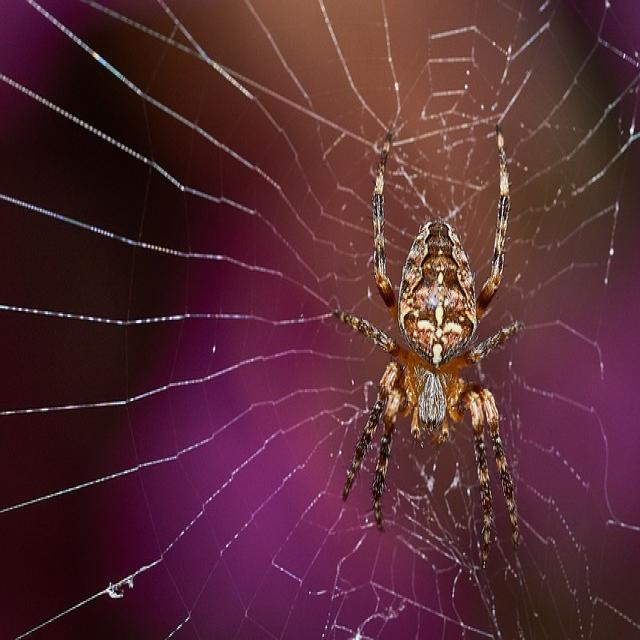spyder: (333, 126, 525, 568)
